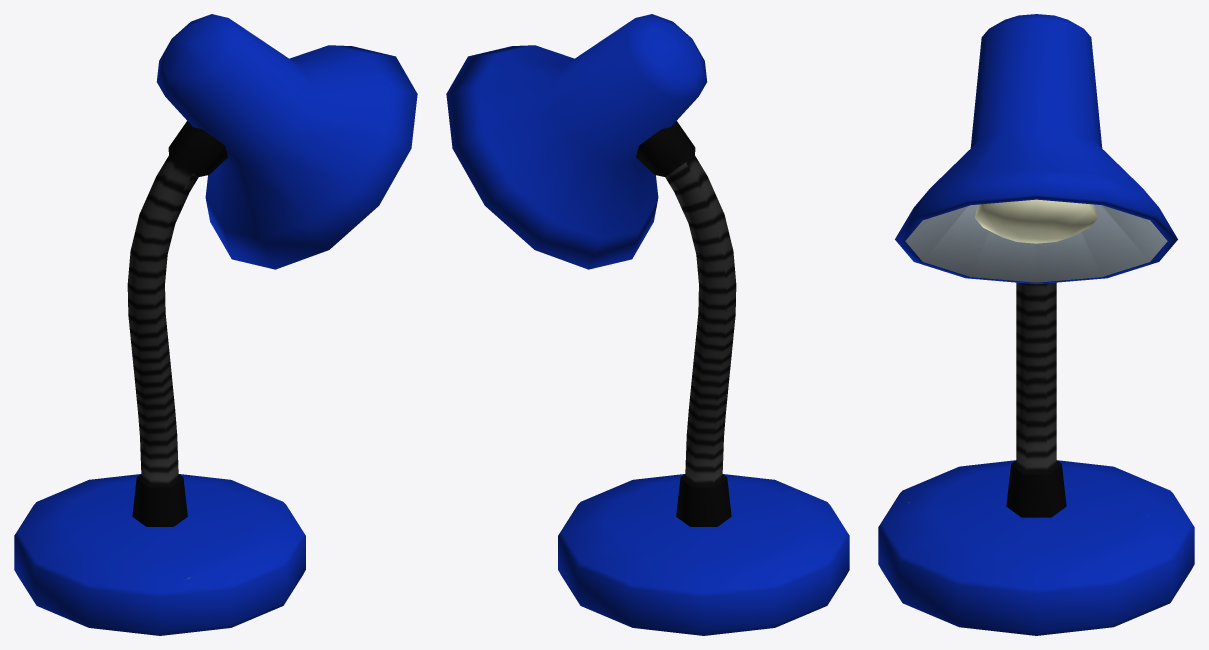
The model's file is Lampara.DAE.
3 views of the same model, side by side, from view 1: azimuth 30°, elevation 25°; view 2: azimuth 150°, elevation 25°; view 3: azimuth 270°, elevation 25° (orthographic). The views are drawn at different scales.
Parts seen in each view (by area): view 1: lampara; view 2: lampara; view 3: lampara.
Part boxes in pixels (x1,y1,x2,y2): lampara: (14, 14, 417, 635); lampara: (446, 14, 849, 635); lampara: (878, 14, 1194, 635).
Bounding box in the file's own units: 2.87 × 2 × 4.1.
Materials: 1 (1 with a texture image).
